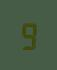nine: (19, 20, 36, 50)
